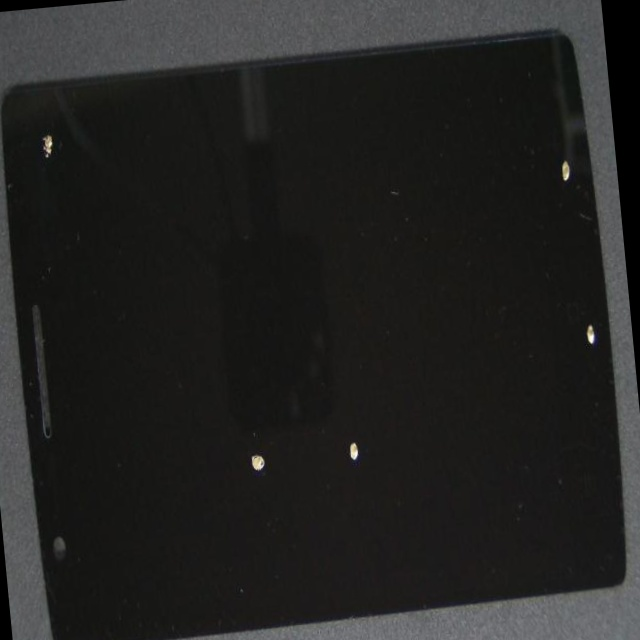stain: (161, 221, 575, 640), (295, 153, 640, 523), (138, 211, 424, 640), (284, 67, 624, 272), (18, 127, 120, 242)
